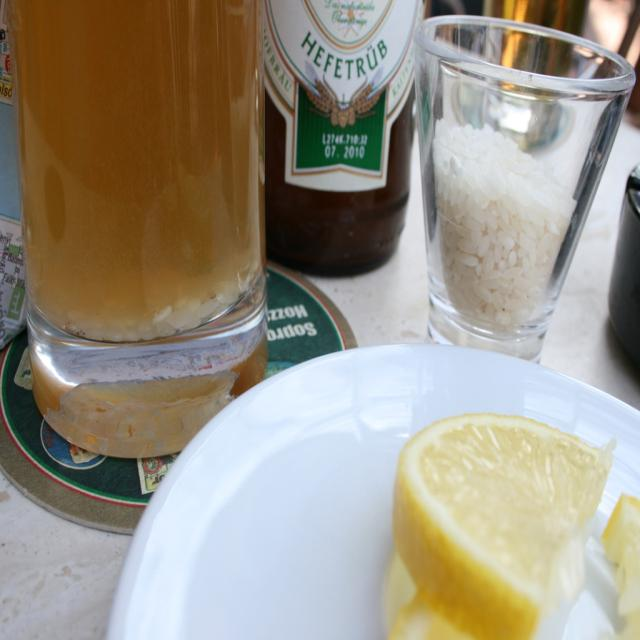Lemon: (391, 415, 616, 639), (600, 494, 640, 640)
